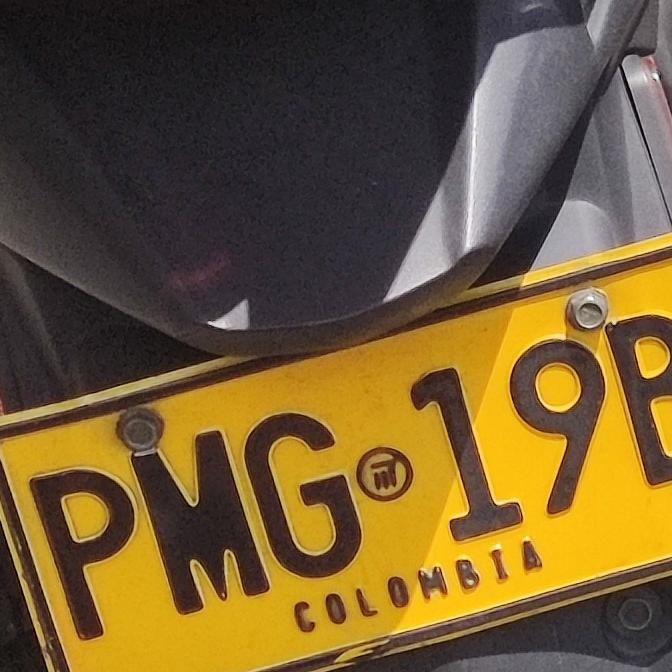plates: (0, 237, 672, 672)
